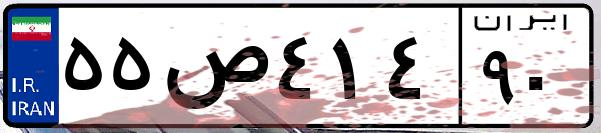0: (525, 38, 570, 115)
1: (330, 28, 385, 110)
4: (270, 28, 330, 110), (385, 28, 445, 110)
5: (57, 26, 110, 100), (110, 28, 158, 98)
9: (475, 38, 525, 113)
ص: (158, 20, 270, 120)
